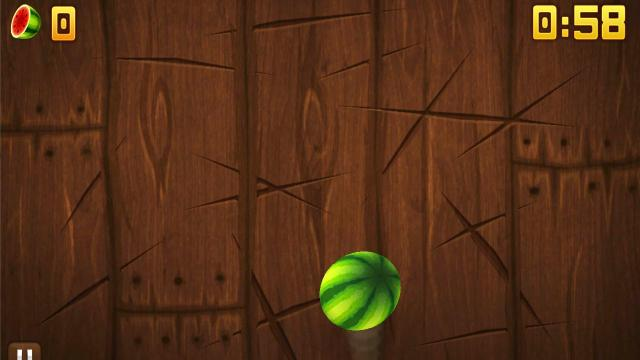fruit: (318, 252, 402, 330)
ignore: (9, 4, 43, 40)
